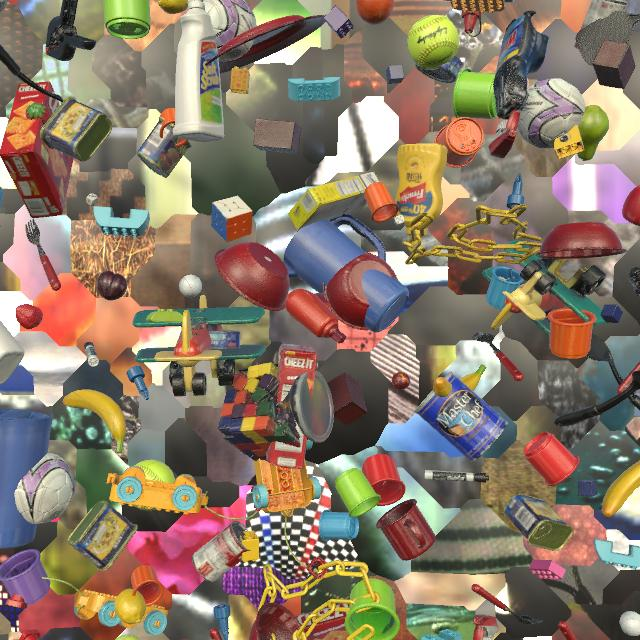ycb_002_master_chef_can: (414, 371, 508, 463)
ycb_003_cracker_box: (0, 81, 74, 218), (266, 343, 317, 469), (295, 604, 350, 640)
ycb_004_sugar_box: (288, 172, 380, 230)
ycb_005_tomato_soup_can: (192, 520, 250, 582), (574, 0, 628, 49)
ycb_006_mustard_bottle: (395, 143, 447, 246)
ycb_007_tuna_fish_can: (415, 56, 463, 83), (208, 330, 240, 349)
ycb_010_potted_meat_can: (67, 500, 138, 571), (40, 97, 112, 162), (503, 494, 574, 551), (137, 117, 192, 178)
ycb_011_banana: (63, 389, 126, 454), (602, 460, 640, 517), (433, 364, 486, 397)
ycb_012_strawberry: (16, 304, 43, 329), (26, 102, 50, 124)
ycb_013_apple: (622, 185, 640, 226)
ycb_014_lemon: (114, 589, 146, 624), (158, 0, 188, 14)
ycb_016_pear: (577, 105, 609, 161)
ycb_017_orange: (356, 0, 394, 25)
ycb_018_plum: (97, 271, 127, 300)
